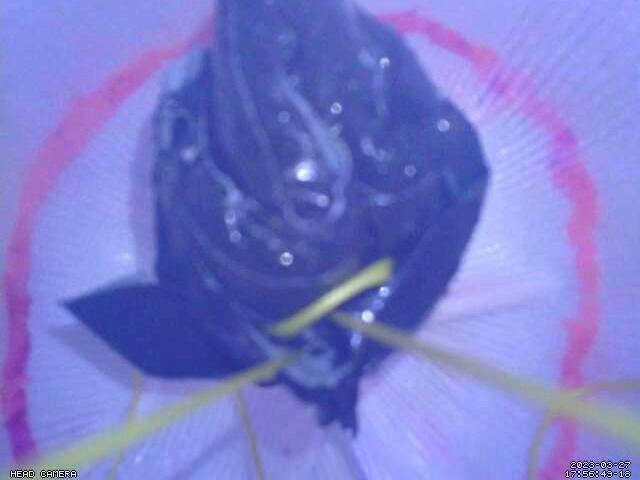head: (0, 0, 603, 480)
